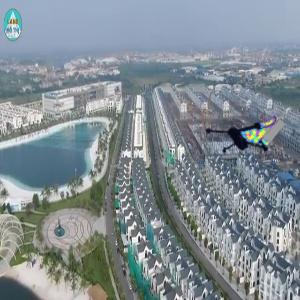drone: (199, 97, 276, 174)
